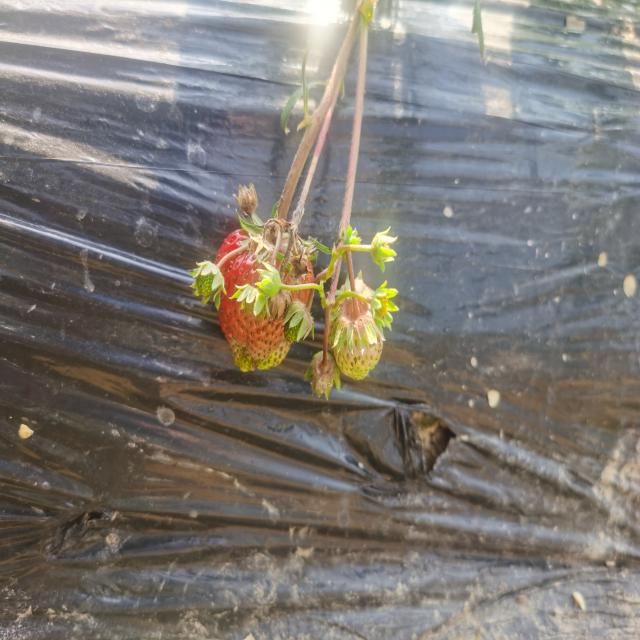stem: (275, 157, 305, 220)
strawberry: (217, 249, 290, 372), (328, 299, 383, 380), (215, 224, 265, 263), (355, 281, 373, 297), (302, 263, 314, 283), (293, 290, 309, 302)
